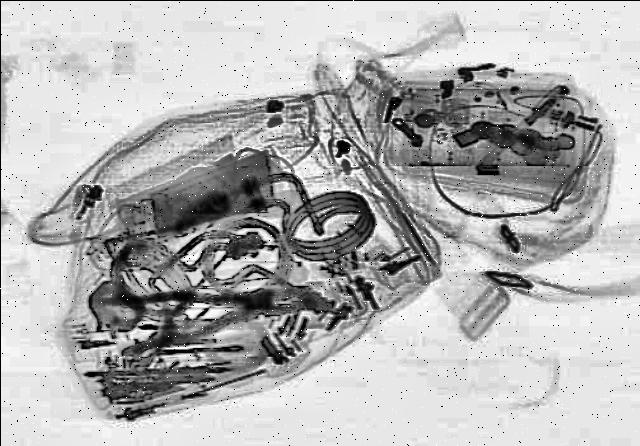Pliers: (98, 262, 328, 356)
